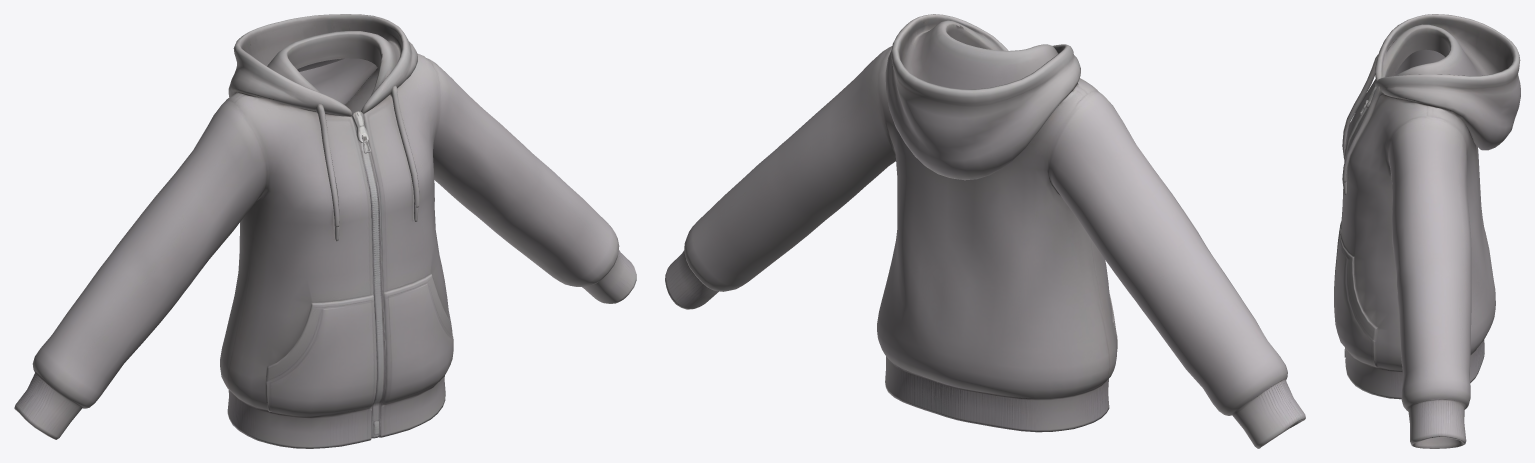
File: hoodie.glb
3 views of the same model, side by side, from view 1: azimuth 30°, elevation 25°; view 2: azimuth 150°, elevation 25°; view 3: azimuth 270°, elevation 25° (orthographic). The views are drawn at different scales.
Parts seen in each view (by area): view 1: tripo_node_ca663f3a-082d-4af7-a5ab-f977b3063b06; view 2: tripo_node_ca663f3a-082d-4af7-a5ab-f977b3063b06; view 3: tripo_node_ca663f3a-082d-4af7-a5ab-f977b3063b06.
Boxes of the visible parts, x1,y1,x2,y2 form: tripo_node_ca663f3a-082d-4af7-a5ab-f977b3063b06: (14,14,636,448); tripo_node_ca663f3a-082d-4af7-a5ab-f977b3063b06: (665,14,1305,448); tripo_node_ca663f3a-082d-4af7-a5ab-f977b3063b06: (1334,14,1520,448).
Size of the model in its own units: 0.9995 by 0.564 by 0.3003.
Materials: 1 (1 with a texture image).
